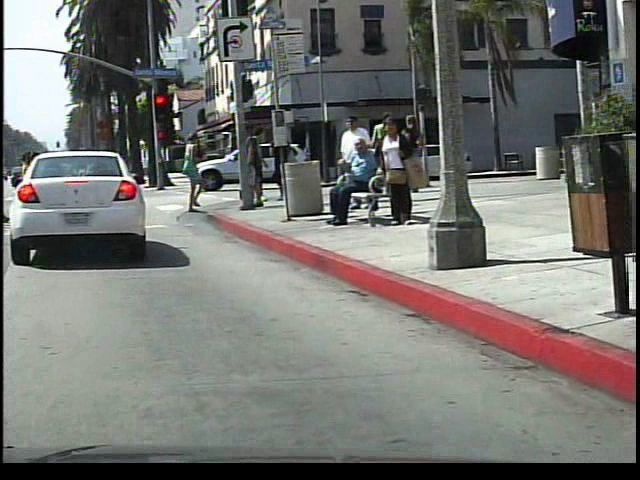person: (329, 141, 388, 227), (378, 117, 418, 234), (176, 127, 222, 218)
